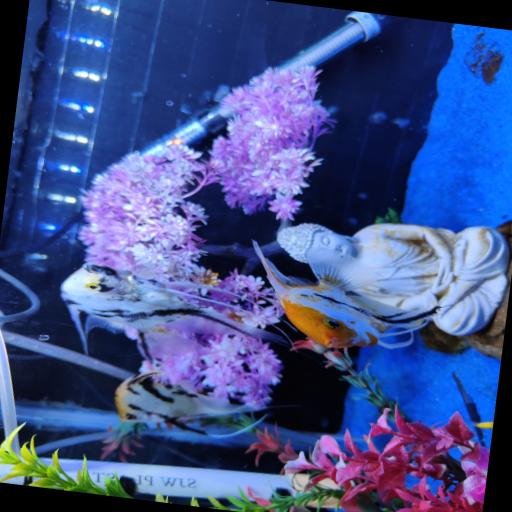Fish: (61, 263, 288, 361), (253, 242, 436, 348), (115, 372, 266, 438), (474, 422, 492, 429), (86, 0, 98, 4)
